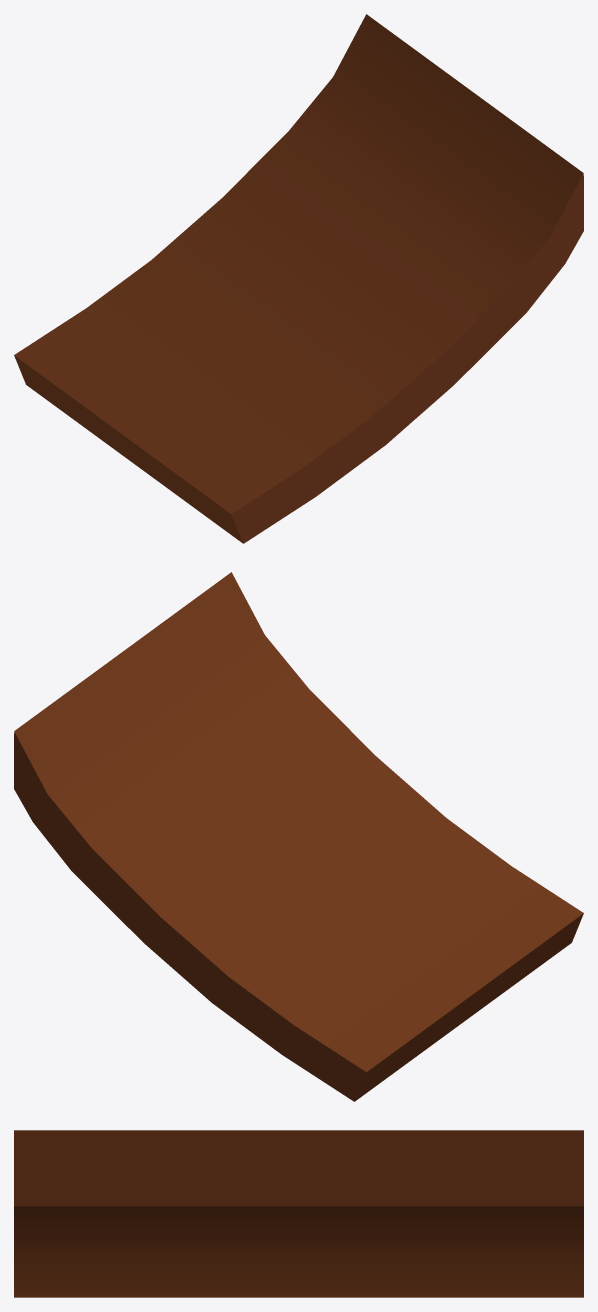
File: TransformerRoofHalf.obj
3 views of the same model, one above another, from view 1: azimuth 30°, elevation 25°; view 2: azimuth 150°, elevation 25°; view 3: azimuth 270°, elevation 25° (orthographic). The views are drawn at different scales.
Visible parts, largest first — view 1: EnergyBoxRoof2 EnergyBox1 HouseBase1; view 2: EnergyBoxRoof2 EnergyBox1 HouseBase1; view 3: EnergyBoxRoof2 EnergyBox1 HouseBase1.
Part boxes in pixels (left/top/right/bottom): EnergyBoxRoof2 EnergyBox1 HouseBase1: left=14, top=14, right=583, bottom=543; EnergyBoxRoof2 EnergyBox1 HouseBase1: left=14, top=572, right=583, bottom=1101; EnergyBoxRoof2 EnergyBox1 HouseBase1: left=14, top=1130, right=583, bottom=1297.
Size of the model in its own units: 4.02 by 3.14 by 4.3.
